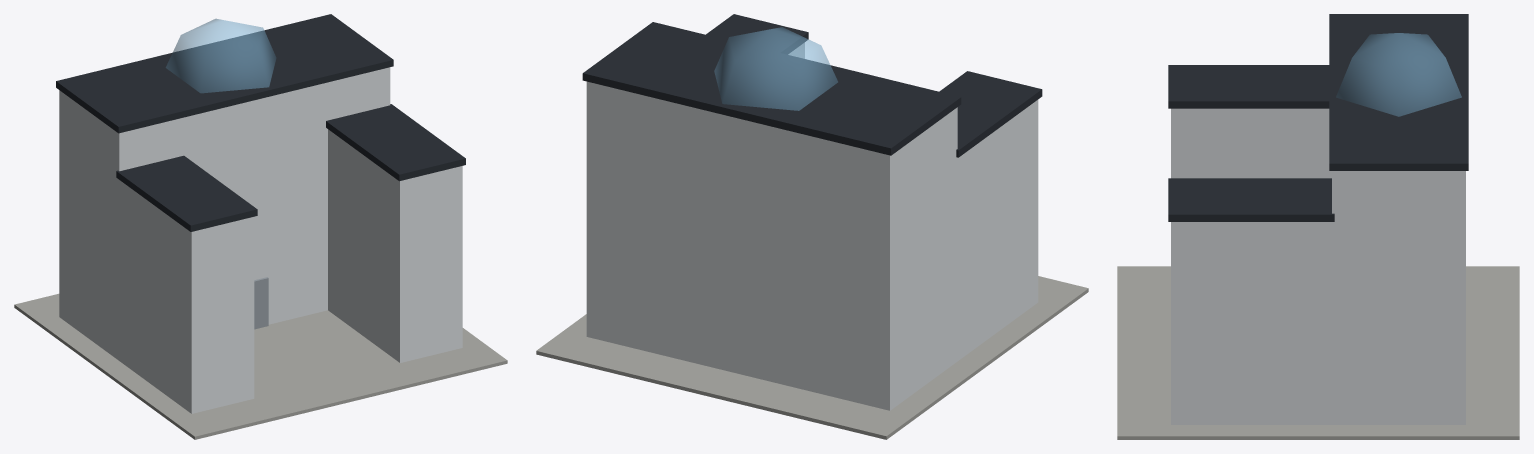
File: bld_special_university_a08_lod2.glb
3 views of the same model, side by side, from view 1: azimuth 30°, elevation 25°; view 2: azimuth 150°, elevation 25°; view 3: azimuth 270°, elevation 25° (orthographic). The views are drawn at different scales.
Parts seen in each view (by area): view 1: body; view 2: body; view 3: body.
Boxes of the visible parts, x1=… form: body: x1=14, y1=14, x2=507, y2=439; body: x1=536, y1=14, x2=1088, y2=439; body: x1=1117, y1=14, x2=1519, y2=439.
Bounding box in the file's own units: 15 × 13.25 × 15.
